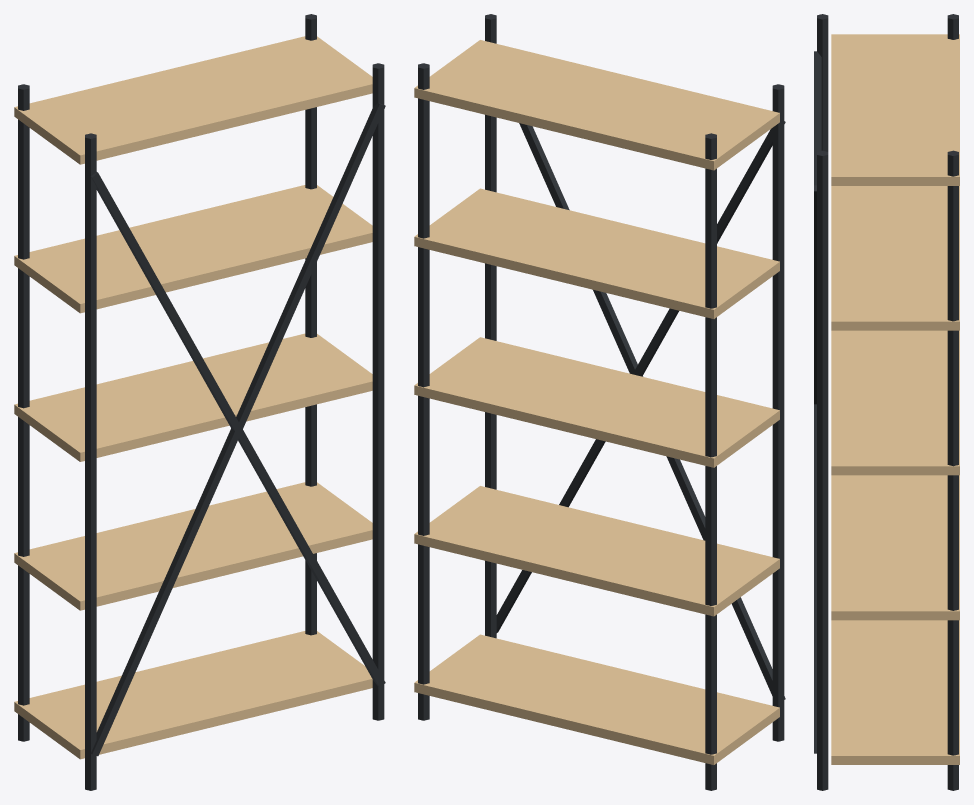
File: SM_LPI_Storage_Shelving_01.fbx
3 views of the same model, side by side, from view 1: azimuth 30°, elevation 25°; view 2: azimuth 150°, elevation 25°; view 3: azimuth 270°, elevation 25° (orthographic). The views are drawn at different scales.
Visible parts, largest first — view 1: SM_LPI_Storage_Shelving_01; view 2: SM_LPI_Storage_Shelving_01; view 3: SM_LPI_Storage_Shelving_01.
Boxes of the visible parts, x1,y1,x2,y2 form: SM_LPI_Storage_Shelving_01: (14, 14, 385, 790); SM_LPI_Storage_Shelving_01: (414, 14, 785, 790); SM_LPI_Storage_Shelving_01: (814, 14, 959, 790).
Bounding box in the file's own units: 0.876 × 1.82 × 0.379.
